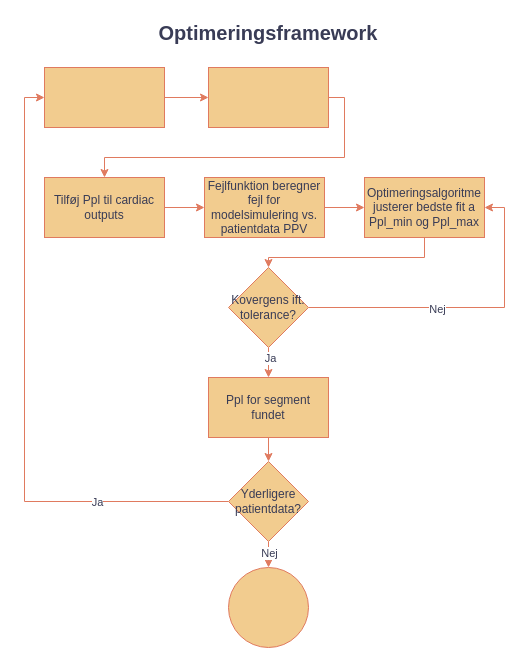
Image size: 530x665. Some labels were removed from this diagram. Here are the shapes that lost their labels. From the top down, the centre of each, then its label:
the point at 104,97: Beregn cardiac ODE
the point at 268,97: Beregn respiratorisk ODE
the point at 268,607: Parameter justering afsluttet
